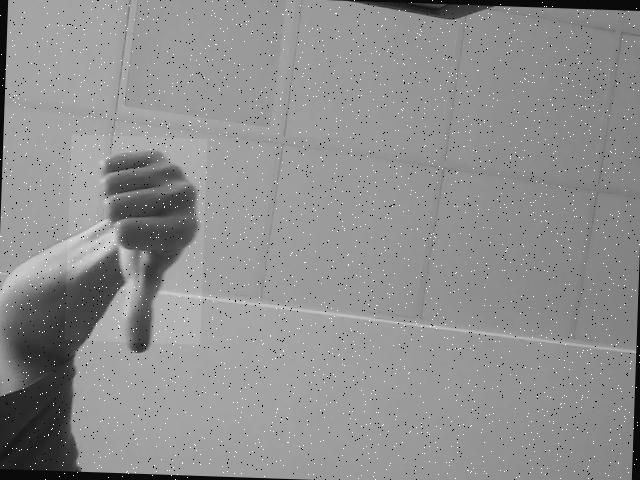bad: (64, 134, 208, 345)
